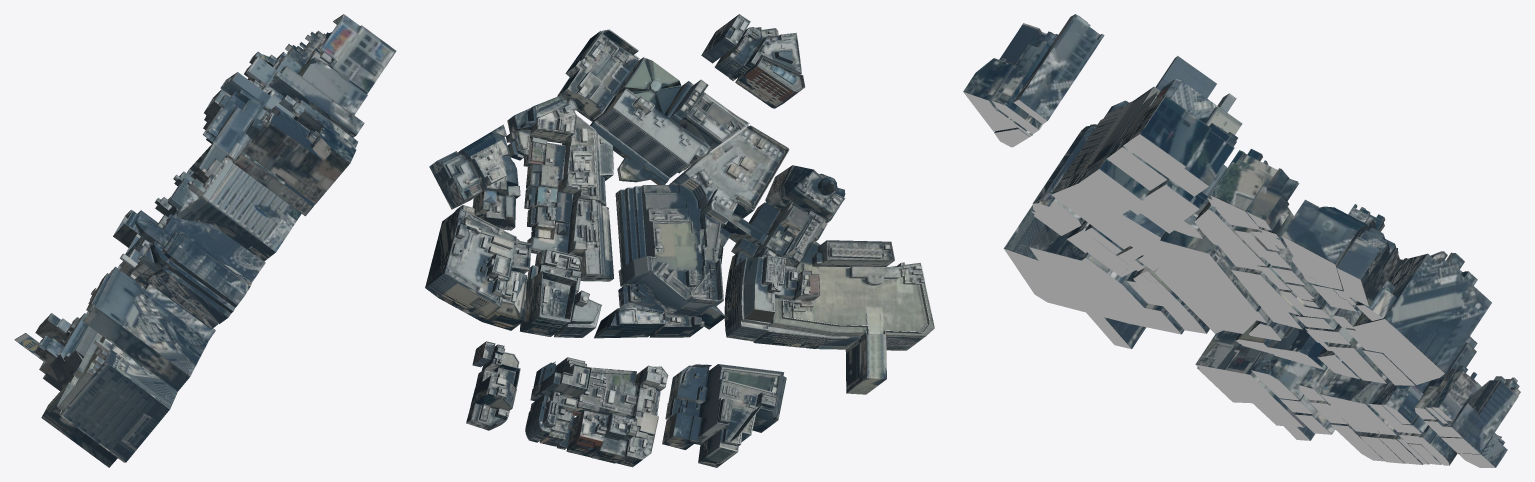
File: l2_data488.glb
3 views of the same model, side by side, from view 1: azimuth 30°, elevation 25°; view 2: azimuth 150°, elevation 25°; view 3: azimuth 270°, elevation 25° (orthographic). The views are drawn at different scales.
Size of the model in its own units: 197 by 178 by 193.
Materials: 2 (1 with a texture image).
